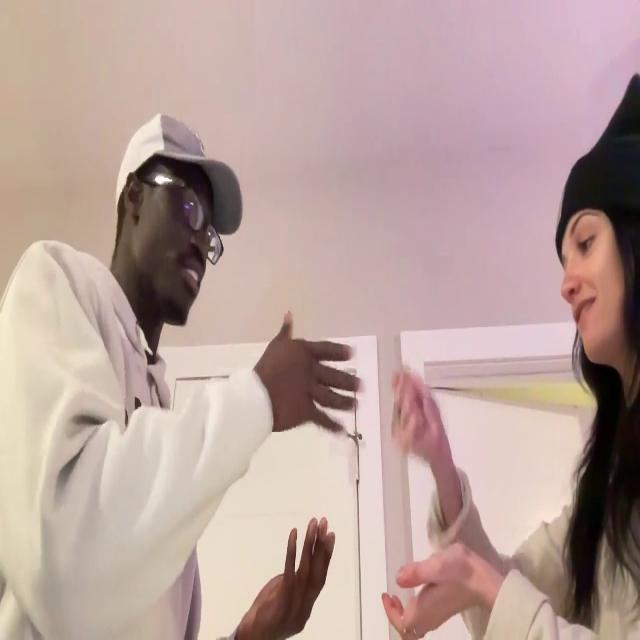Paper: (257, 305, 364, 444)
Rock: (391, 370, 440, 462)
